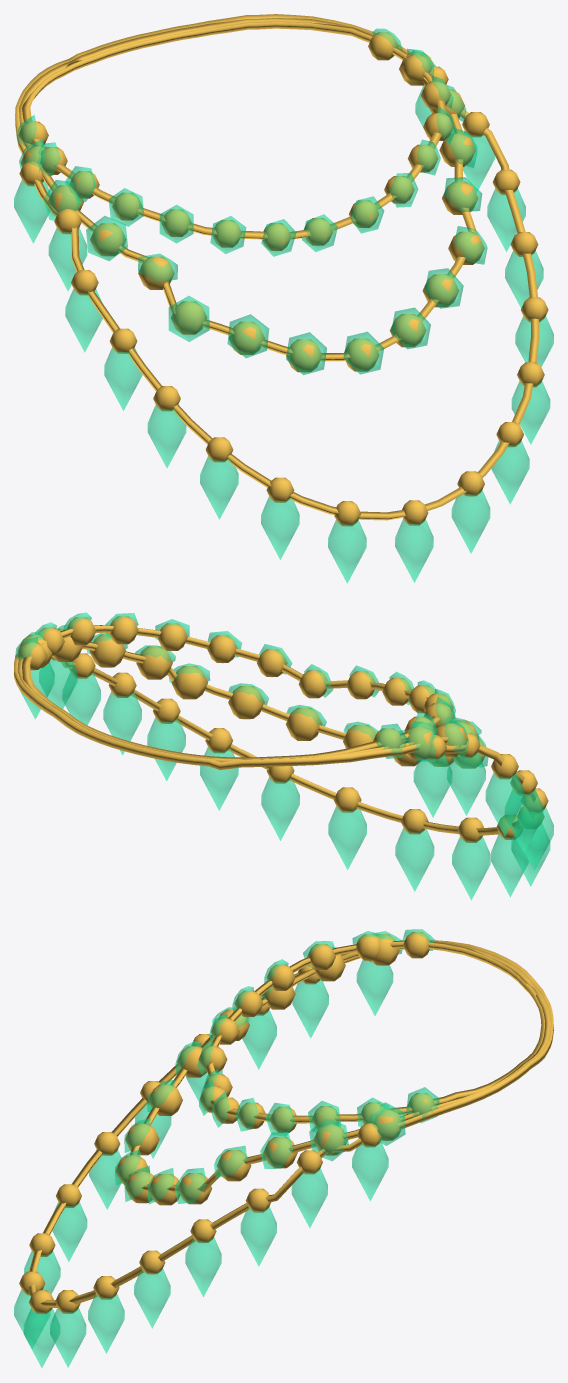
File: bib_necklace.glb
The picture shows the model from 3 angles, top to bottom: view 1: azimuth 30°, elevation 25°; view 2: azimuth 150°, elevation 25°; view 3: azimuth 270°, elevation 25°; orthographic projection. The views are drawn at different scales.
Parts seen in each view (by area): view 1: bib_necklace; view 2: bib_necklace; view 3: bib_necklace.
Boxes of the visible parts, left/top/right/bottom form: bib_necklace: left=14, top=14, right=553, bottom=583; bib_necklace: left=14, top=612, right=553, bottom=900; bib_necklace: left=14, top=929, right=553, bottom=1367.
Size of the model in its own units: 0.1105 by 0.0828 by 0.1188.
